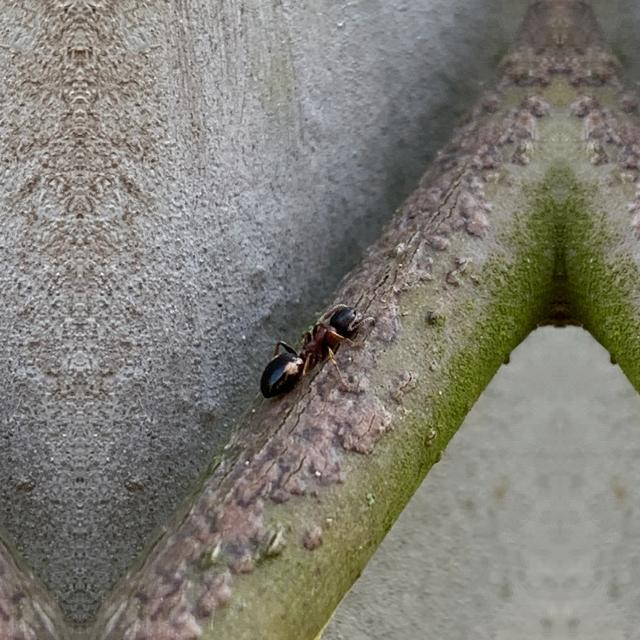Dolichoderus: (249, 286, 377, 419)
